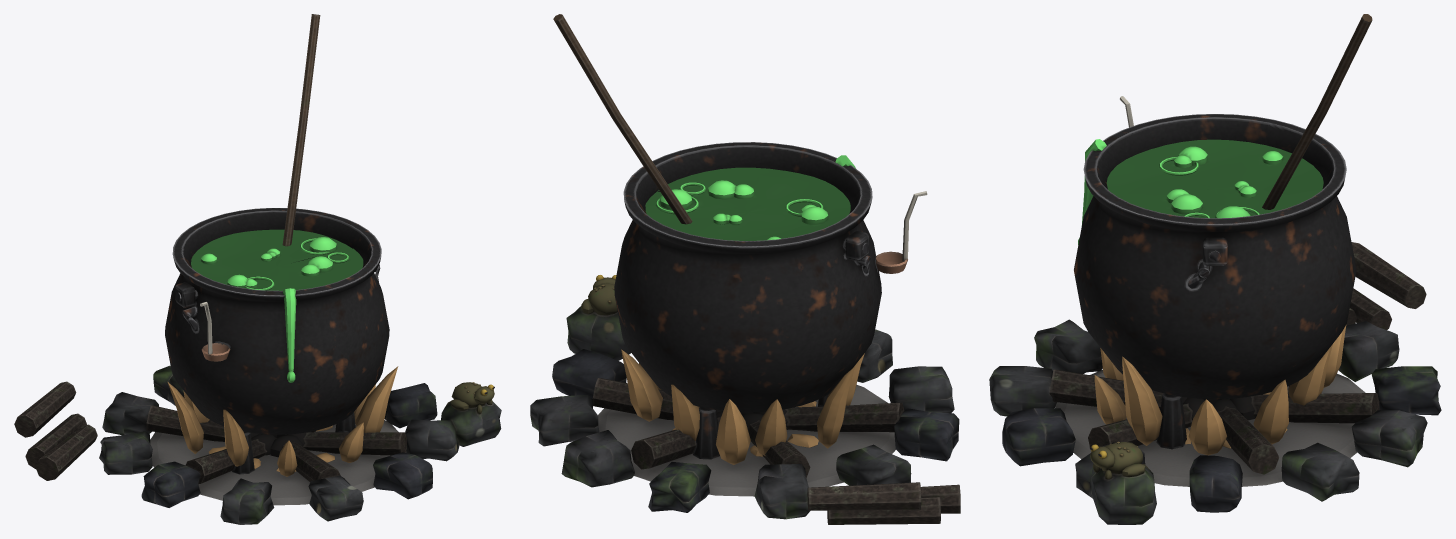
The model's file is WitchCauldron.fbx.
3 views of the same model, side by side, from view 1: azimuth 30°, elevation 25°; view 2: azimuth 150°, elevation 25°; view 3: azimuth 270°, elevation 25° (orthographic). The views are drawn at different scales.
Parts seen in each view (by area): view 1: WitchCauldron_Main, WitchCauldron_Glow, WitchCauldron_Glow2; view 2: WitchCauldron_Main, WitchCauldron_Glow, WitchCauldron_Glow2; view 3: WitchCauldron_Main, WitchCauldron_Glow, WitchCauldron_Glow2.
Part boxes in pixels (left/top/right/bottom): WitchCauldron_Main: left=14, top=14, right=501, bottom=524; WitchCauldron_Glow: left=191, top=229, right=363, bottom=382; WitchCauldron_Glow2: left=167, top=366, right=398, bottom=476; WitchCauldron_Main: left=530, top=14, right=960, bottom=524; WitchCauldron_Glow: left=645, top=155, right=855, bottom=240; WitchCauldron_Glow2: left=621, top=349, right=864, bottom=464; WitchCauldron_Main: left=989, top=14, right=1441, bottom=524; WitchCauldron_Glow: left=1078, top=139, right=1323, bottom=244; WitchCauldron_Glow2: left=1094, top=325, right=1346, bottom=455.
Size of the model in its own units: 692 by 637 by 550.
